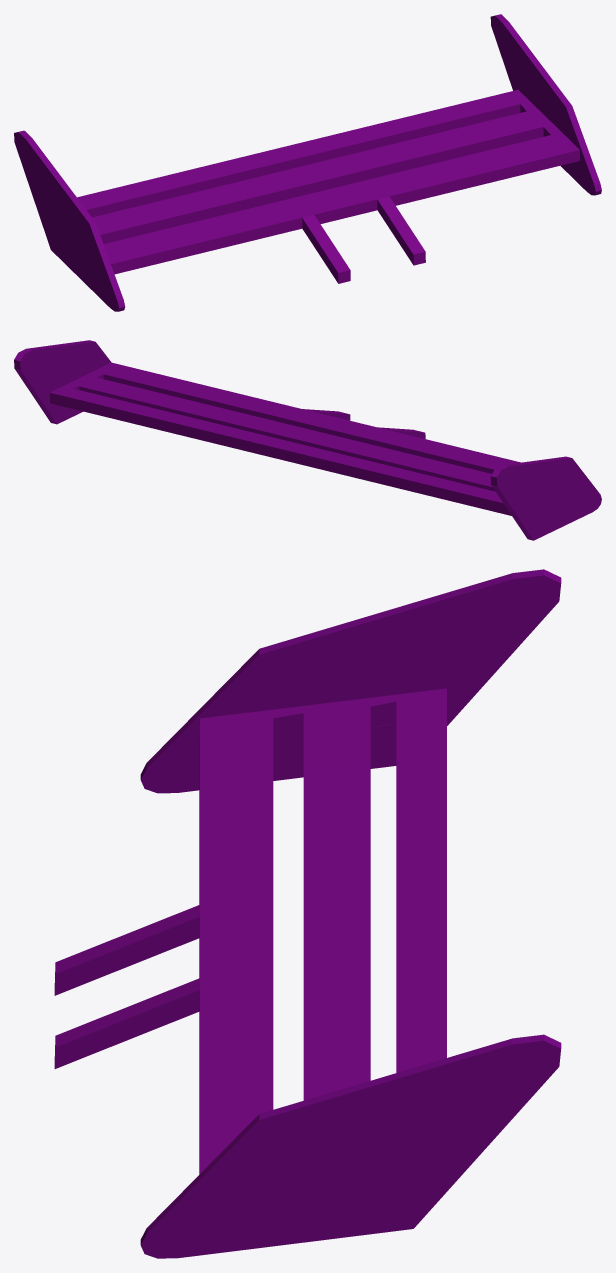
The model's file is spojler resetka.fbx.
3 renders of one model, top to bottom at view 1: azimuth 30°, elevation 25°; view 2: azimuth 150°, elevation 25°; view 3: azimuth 270°, elevation 25°, orthographic. The views are drawn at different scales.
Visible parts, largest first — view 1: spojler resetka; view 2: spojler resetka; view 3: spojler resetka.
Part boxes in pixels (x1,y1,x2,y2): spojler resetka: (14,14,601,311); spojler resetka: (14,340,601,540); spojler resetka: (54,569,561,1258).
Bounding box in the file's own units: 183 × 40.03 × 82.94.
